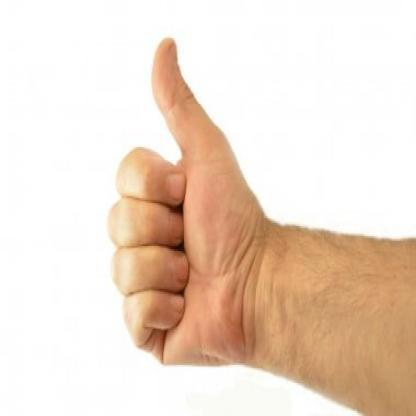thumb_up: (104, 32, 260, 370)
